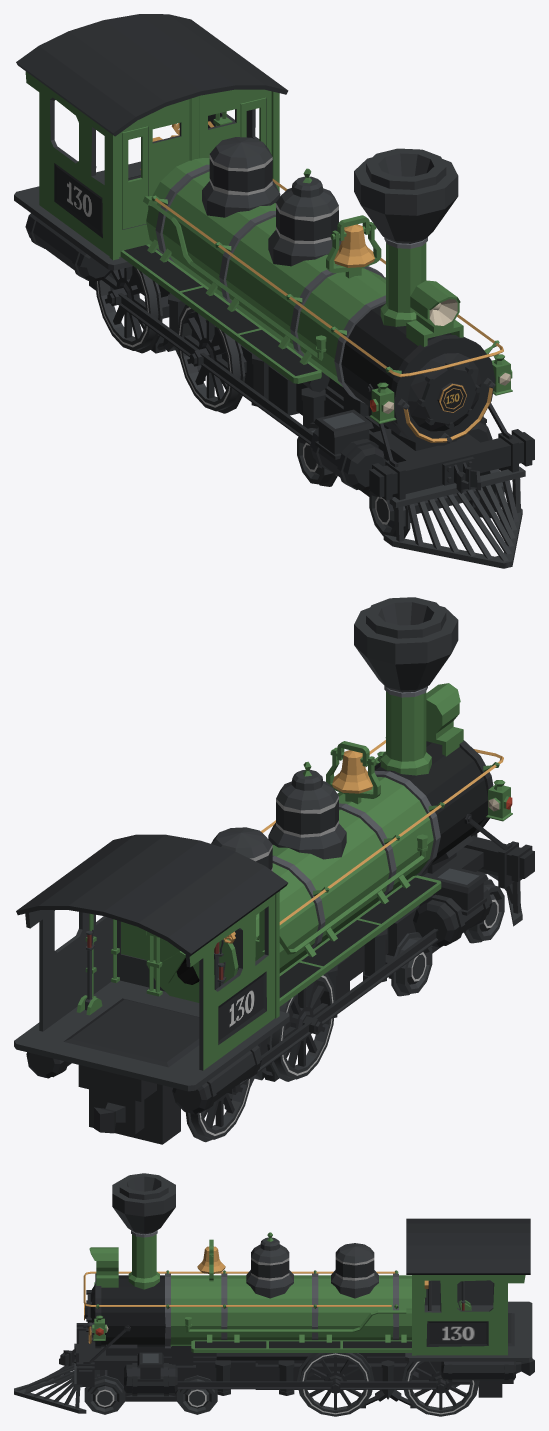
File: train3.fbx
3 renders of one model, top to bottom at view 1: azimuth 30°, elevation 25°; view 2: azimuth 150°, elevation 25°; view 3: azimuth 270°, elevation 25°, orthographic. The views are drawn at different scales.
Parts seen in each view (by area): view 1: SM_Veh_Train_003, SM_Veh_Train_01_Alt_Smokestack002, SM_Veh_Train_01_Wheel_L_010, SM_Veh_Train_01_Wheel_L_009, SM_Veh_Train_01_Bell002, SM_Veh_Train_01_Wheel_L_012, SM_Veh_Train_01_Wheel_L_011; view 2: SM_Veh_Train_003, SM_Veh_Train_01_Alt_Smokestack002, SM_Veh_Train_01_Wheel_L_010, SM_Veh_Train_01_Wheel_L_009, SM_Veh_Train_01_Wheel_L_011, SM_Veh_Train_01_Bell002, SM_Veh_Train_01_Wheel_L_012; view 3: SM_Veh_Train_003, SM_Veh_Train_01_Alt_Smokestack002, SM_Veh_Train_01_Wheel_R_010, SM_Veh_Train_01_Wheel_R_009, SM_Veh_Train_01_Wheel_R_012, SM_Veh_Train_01_Wheel_R_011, SM_Veh_Train_01_Bell002.
Boxes of the visible parts, x1=… form: SM_Veh_Train_003: x1=14, y1=14, x2=534, y2=568; SM_Veh_Train_01_Alt_Smokestack002: x1=354, y1=148, x2=458, y2=243; SM_Veh_Train_01_Wheel_L_010: x1=177, y1=305, x2=245, y2=413; SM_Veh_Train_01_Wheel_L_009: x1=95, y1=266, x2=162, y2=353; SM_Veh_Train_01_Bell002: x1=334, y1=224, x2=374, y2=267; SM_Veh_Train_01_Wheel_L_012: x1=369, y1=491, x2=410, y2=538; SM_Veh_Train_01_Wheel_L_011: x1=297, y1=422, x2=337, y2=486; SM_Veh_Train_003: x1=14, y1=683, x2=534, y2=1144; SM_Veh_Train_01_Alt_Smokestack002: x1=354, y1=597, x2=458, y2=692; SM_Veh_Train_01_Wheel_L_010: x1=267, y1=973, x2=335, y2=1081; SM_Veh_Train_01_Wheel_L_009: x1=185, y1=1077, x2=251, y2=1142; SM_Veh_Train_01_Wheel_L_011: x1=391, y1=932, x2=432, y2=996; SM_Veh_Train_01_Bell002: x1=332, y1=750, x2=372, y2=793; SM_Veh_Train_01_Wheel_L_012: x1=464, y1=879, x2=504, y2=943; SM_Veh_Train_003: x1=14, y1=1218, x2=534, y2=1413; SM_Veh_Train_01_Alt_Smokestack002: x1=112, y1=1173, x2=175, y2=1234; SM_Veh_Train_01_Wheel_R_010: x1=297, y1=1353, x2=374, y2=1416; SM_Veh_Train_01_Wheel_R_009: x1=402, y1=1361, x2=479, y2=1416; SM_Veh_Train_01_Wheel_R_012: x1=84, y1=1375, x2=125, y2=1414; SM_Veh_Train_01_Wheel_R_011: x1=177, y1=1375, x2=217, y2=1414; SM_Veh_Train_01_Bell002: x1=197, y1=1246, x2=225, y2=1273.
Bounding box in the file's own units: 328 × 580 × 1249.
1 material, 1 textured.
